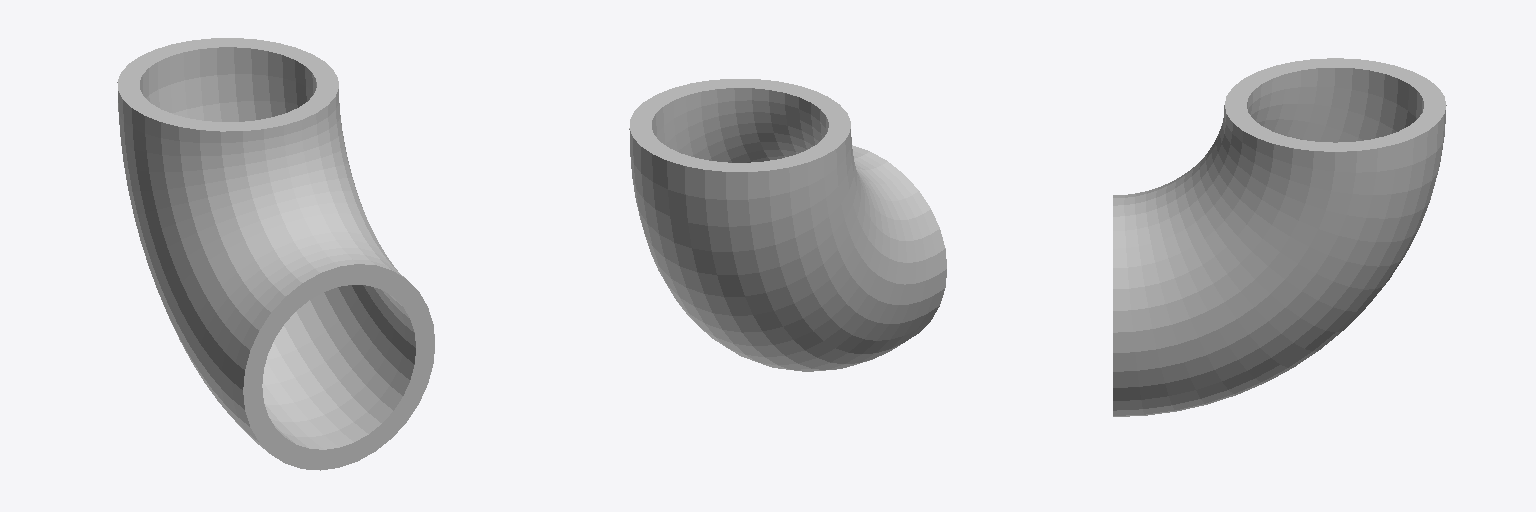
Rendered from tube_vertical_to_horizontal.obj.
3 renders of one model, left to right at view 1: azimuth 30°, elevation 25°; view 2: azimuth 150°, elevation 25°; view 3: azimuth 270°, elevation 25°, orthographic.
Visible parts, largest first — view 1: TubeVerticalToHorizontal_Circle.012; view 2: TubeVerticalToHorizontal_Circle.012; view 3: TubeVerticalToHorizontal_Circle.012.
Boxes of the visible parts, x1,y1,x2,y2 form: TubeVerticalToHorizontal_Circle.012: [117, 38, 434, 470]; TubeVerticalToHorizontal_Circle.012: [629, 79, 946, 371]; TubeVerticalToHorizontal_Circle.012: [1113, 58, 1446, 416].
Bounding box in the file's own units: 2 × 3 × 3.